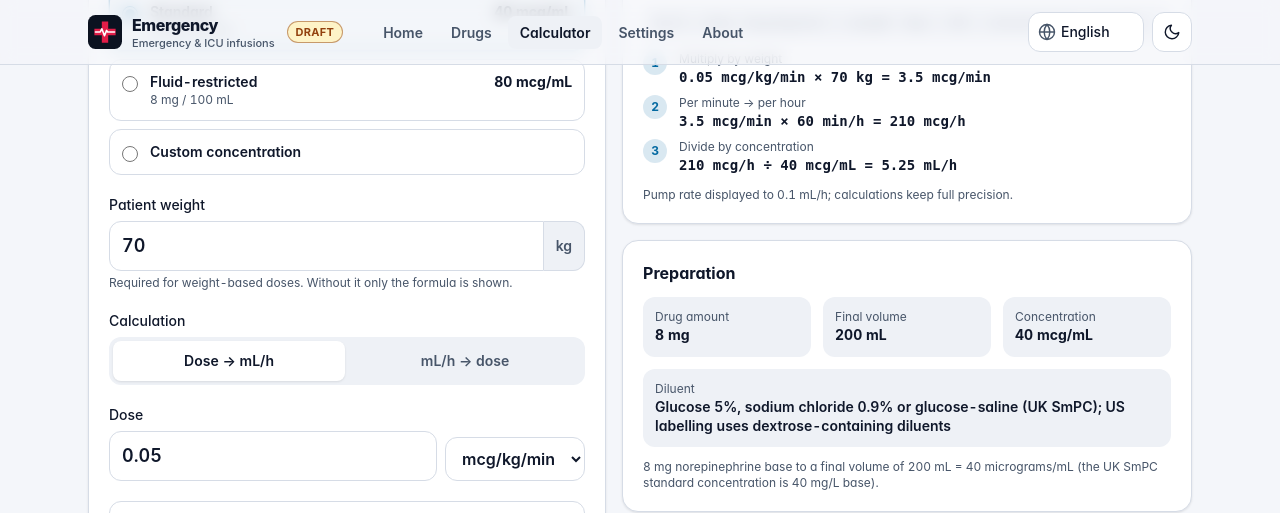
Scenario: Calculator › reverse mode: 10.5 mL/h norepinephrine at 70 kg → 0.1 mcg/kg/min
(page scrolled)
Click the radio button labelled "mL/h → dose". click: (465, 360)
box: [349,340,581,380]
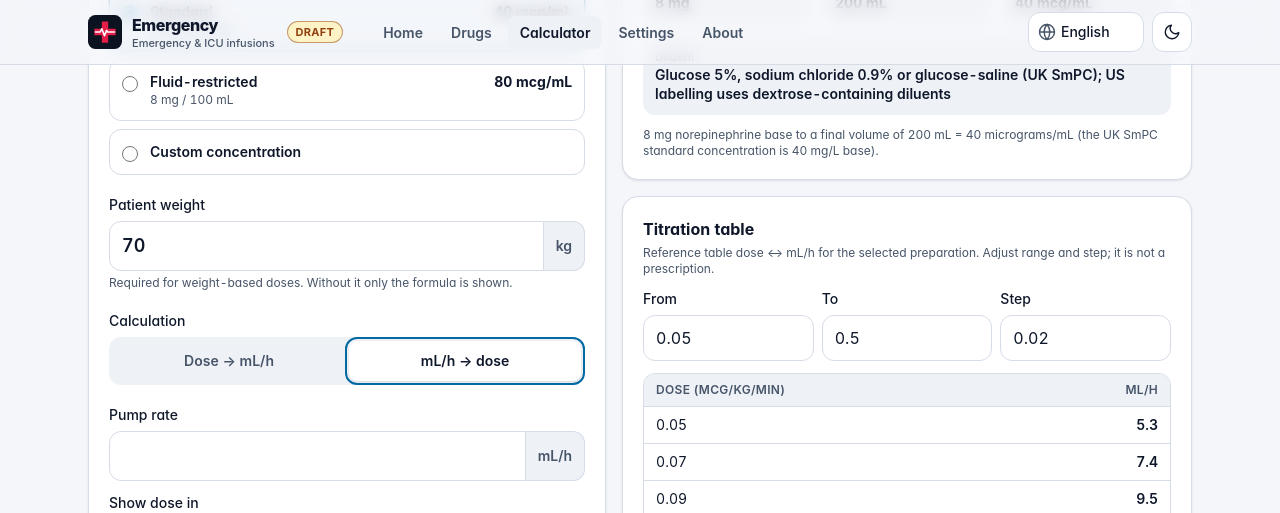
Type "10,5" into the field with test id "calc-rate". click: (317, 456)
box: [109,430,526,480]
(page scrolled)
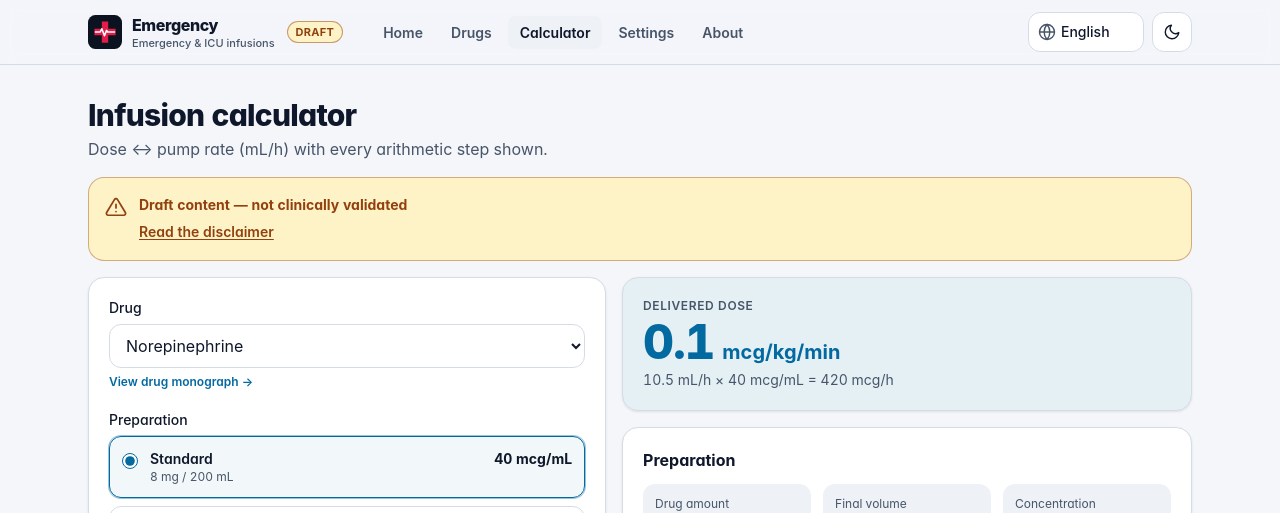
Check: the text with test id "dose-display" reads "0.1", box [643,312,714,370]
